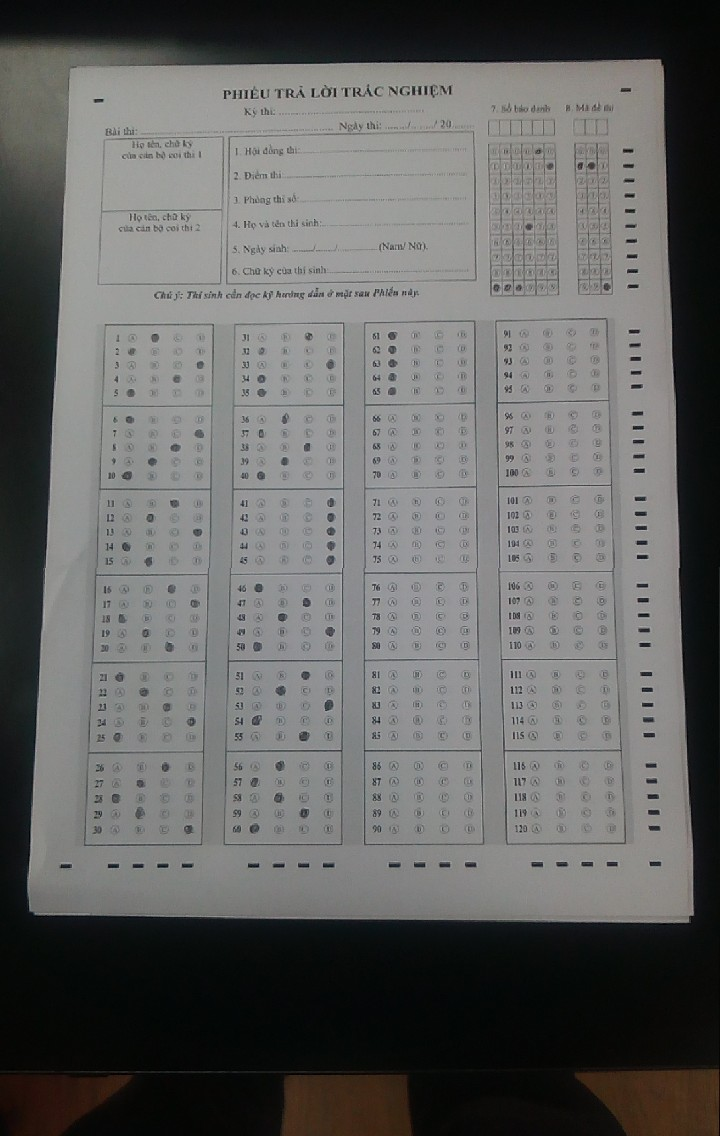bot_left: (3, 885, 44, 927)
bot_right: (667, 892, 708, 937)
top_left: (56, 43, 101, 89)
top_right: (639, 34, 679, 81)
